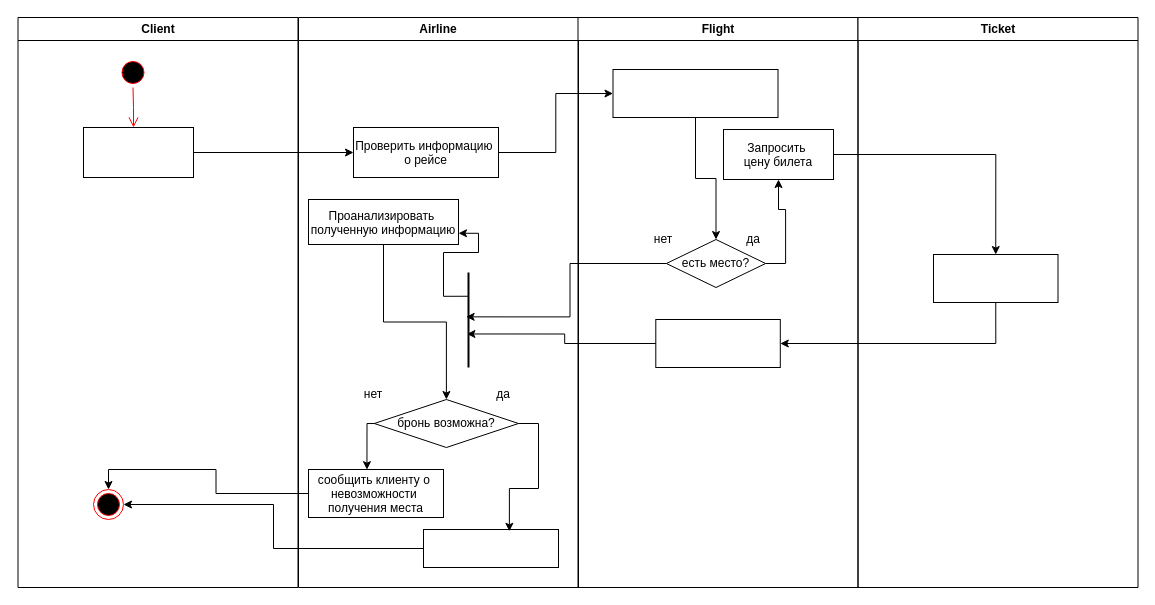
This 1155x605 diagram has some shape labels left out. The shapes that lost their labels are listed below. From the top down, each one's centre as x and y in pixels, then its label:
At point (695, 93): "Проверить наличие свободного места".
At point (138, 152): "Заказать билет".
At point (995, 278): "Вернуть цену билета".
At point (717, 343): "Предоставить информацию о рейсе".
At point (490, 548): "подтвердить бронь".
